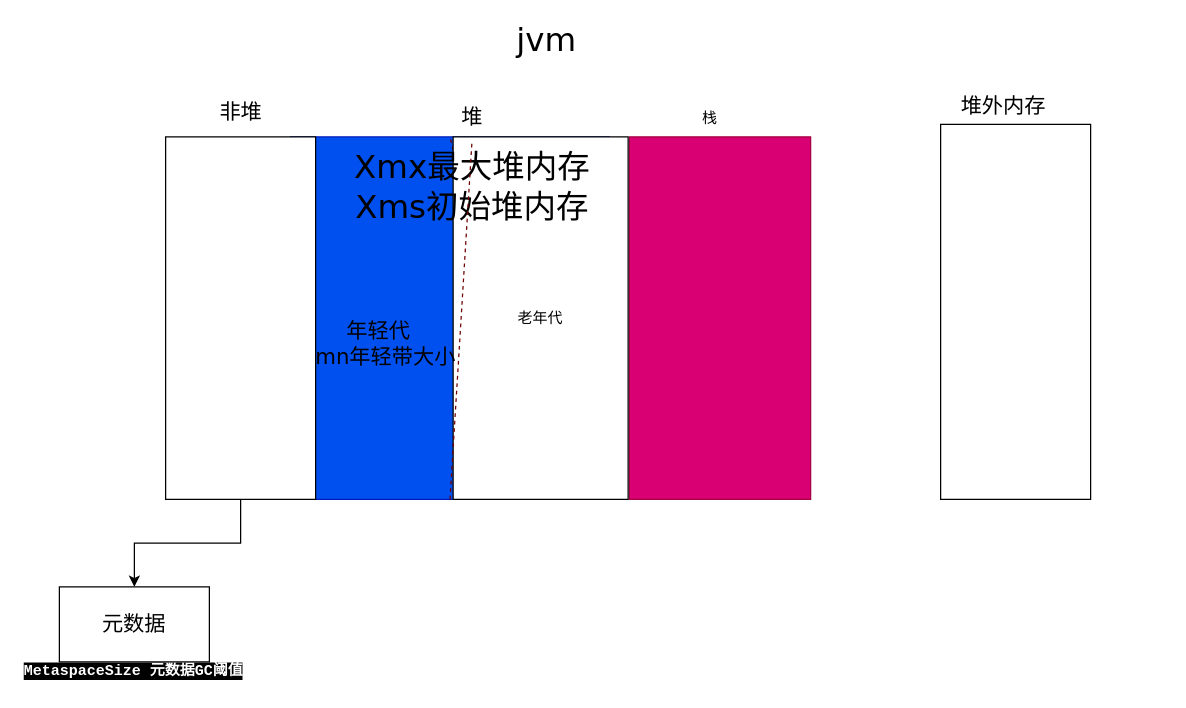
Some shapes in this 1186 by 708 pixel diagram are drawn without their labels. The shapes that lost their labels are listed below. From the top down, each one's centre as x and y in pixels, then its label:
At point 719,317: "Xss：每个线程的内存大小".
At point 1015,311: "-XX:MaxDirectMemorySize 系统可以使用的最大堆外内存".
